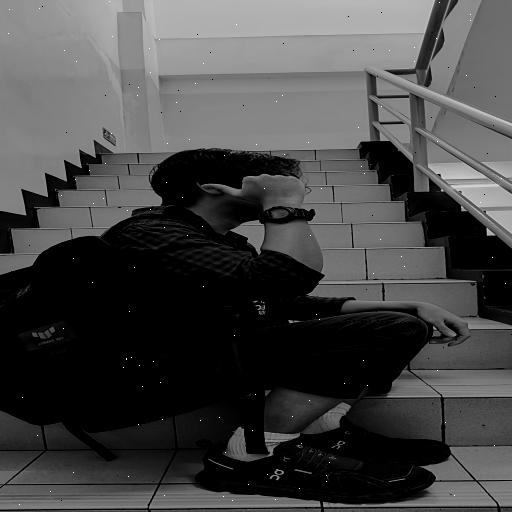back: (188, 164, 331, 219)
